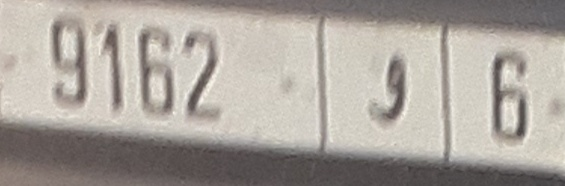1: (97, 23, 128, 113)
2: (180, 28, 223, 123)
6: (488, 47, 530, 149), (137, 24, 176, 119)
9: (47, 14, 91, 111)
waw: (365, 50, 410, 131)
